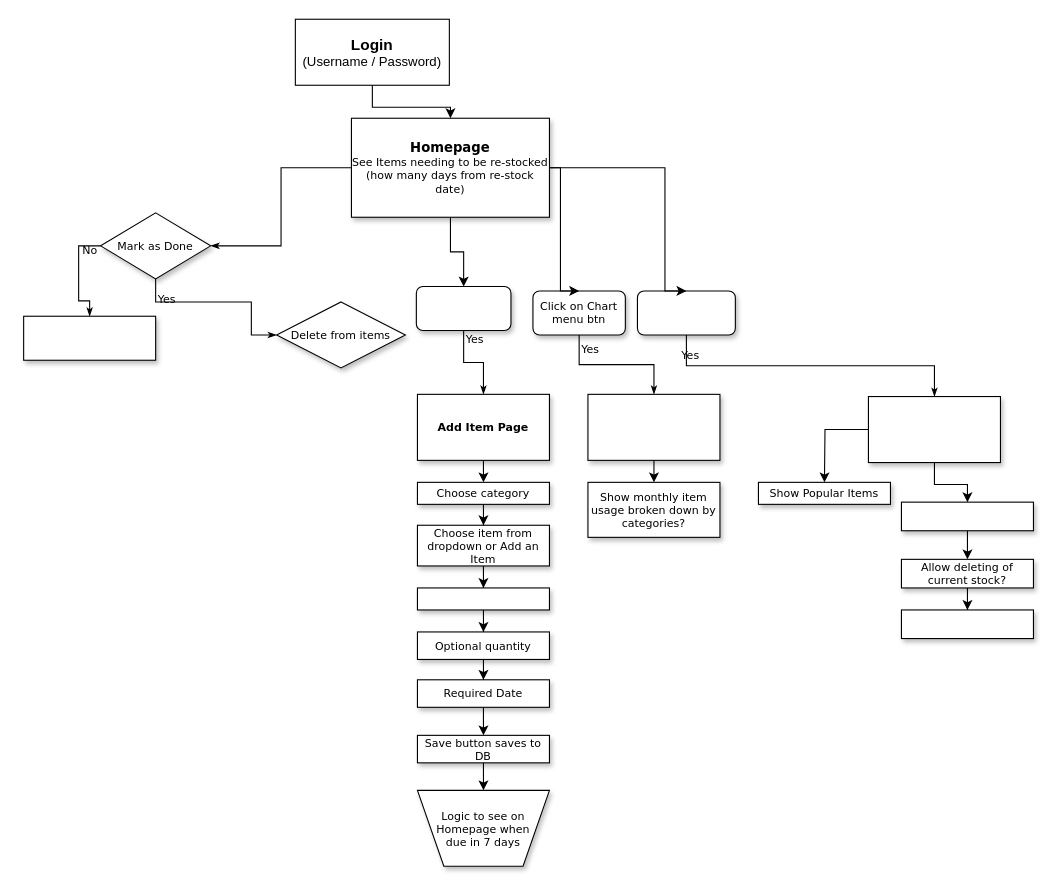
Some shapes in this 1059 by 893 pixel diagram are drawn without their labels. The shapes that lost their labels are listed below. From the top down, each one's centre as x and y in pixels, then its label:
At (464,309): "Click on add Item menu btn".
At (687,314): "Click on Stock menu btn".
At (90,339): "Leave on homepage list".
At (654,428): "Chart Page".
At (935,430): "Stock Page".
At (968,517): "Show current Stock".
At (484,600): "Optional add a note".
At (968,625): "Allow editing of stock quantity?".
